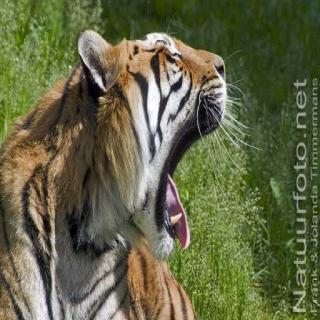Tiger: (0, 23, 242, 320)
